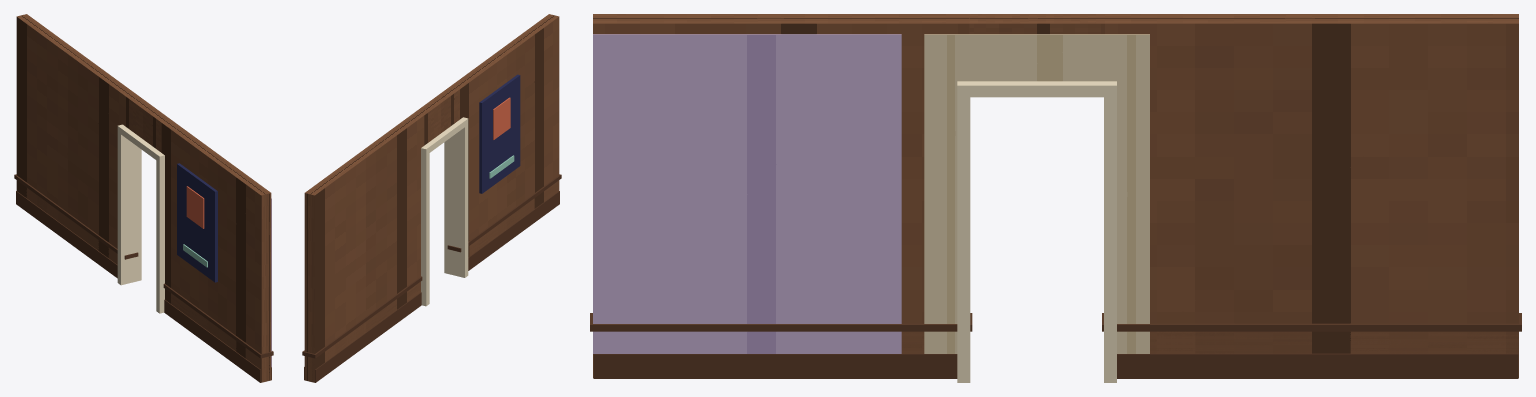
Rendered from right_wall.glb.
3 views of the same model, side by side, from view 1: azimuth 30°, elevation 25°; view 2: azimuth 150°, elevation 25°; view 3: azimuth 270°, elevation 25° (orthographic). The views are drawn at different scales.
Visible parts, largest first — view 1: Box1, Box3, Box9, Box6, Box5, Box2, Box10, Box4, Box18, Box17, Box19, Box7 (+2 smaller); view 2: Box1, Box3, Box10, Box6, Box2, Box5, Box9, Box4, Box16, Box18, Box17, Box19 (+2 smaller); view 3: Box1, Box15, Box3, Box13, Box12, Box2, Box4, Box16, Box14, Box10, Box9, Box17 (+3 smaller).
Part boxes in pixels (x1=…): Box1: x1=16, y1=14, x2=135, y2=264; Box3: x1=161, y1=120, x2=271, y2=382; Box9: x1=117, y1=124, x2=141, y2=285; Box6: x1=177, y1=163, x2=217, y2=282; Box5: x1=126, y1=94, x2=171, y2=152; Box2: x1=16, y1=191, x2=117, y2=278; Box10: x1=156, y1=153, x2=164, y2=313; Box4: x1=164, y1=299, x2=271, y2=382; Box18: x1=165, y1=289, x2=271, y2=382; Box17: x1=14, y1=174, x2=138, y2=259; Box19: x1=163, y1=283, x2=273, y2=358; Box7: x1=186, y1=186, x2=204, y2=228; Box1: x1=304, y1=113, x2=424, y2=382; Box3: x1=450, y1=14, x2=559, y2=256; Box10: x1=444, y1=117, x2=468, y2=277; Box6: x1=479, y1=74, x2=520, y2=193; Box2: x1=304, y1=292, x2=421, y2=382; Box5: x1=414, y1=87, x2=459, y2=145; Box9: x1=421, y1=145, x2=429, y2=306; Box4: x1=468, y1=191, x2=559, y2=270; Box16: x1=304, y1=281, x2=420, y2=382; Box18: x1=468, y1=180, x2=559, y2=257; Box17: x1=302, y1=276, x2=422, y2=358; Box19: x1=447, y1=174, x2=561, y2=252; Box1: x1=1105, y1=14, x2=1518, y2=378; Box15: x1=593, y1=34, x2=901, y2=353; Box3: x1=593, y1=14, x2=969, y2=377; Box13: x1=924, y1=34, x2=969, y2=353; Box12: x1=1105, y1=34, x2=1149, y2=353; Box2: x1=1117, y1=353, x2=1518, y2=378; Box4: x1=593, y1=353, x2=957, y2=378; Box16: x1=1150, y1=331, x2=1518, y2=375; Box14: x1=969, y1=34, x2=1104, y2=81; Box10: x1=957, y1=81, x2=970, y2=382; Box9: x1=1104, y1=81, x2=1116, y2=382; Box17: x1=1102, y1=313, x2=1521, y2=331.
Size of the model in its own units: 0.3 by 2.6 by 6.19.
8 materials, 3 textured.
